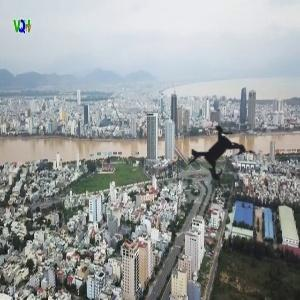drone: (165, 98, 280, 213)
